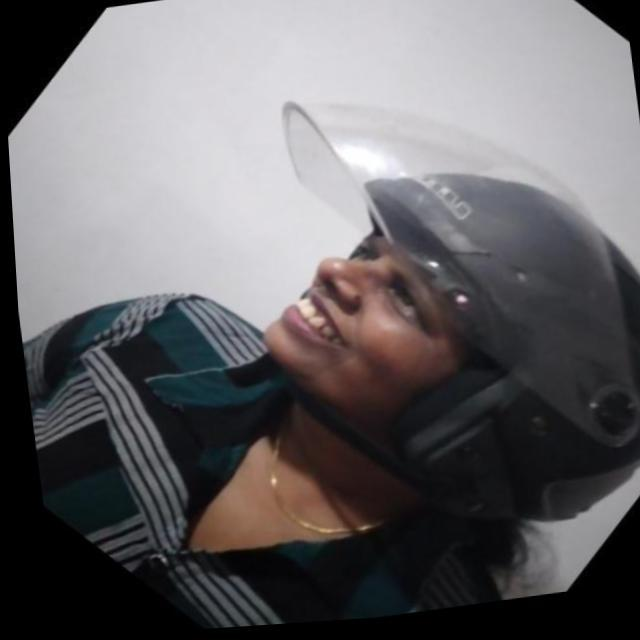with_helmet: (265, 97, 640, 516)
